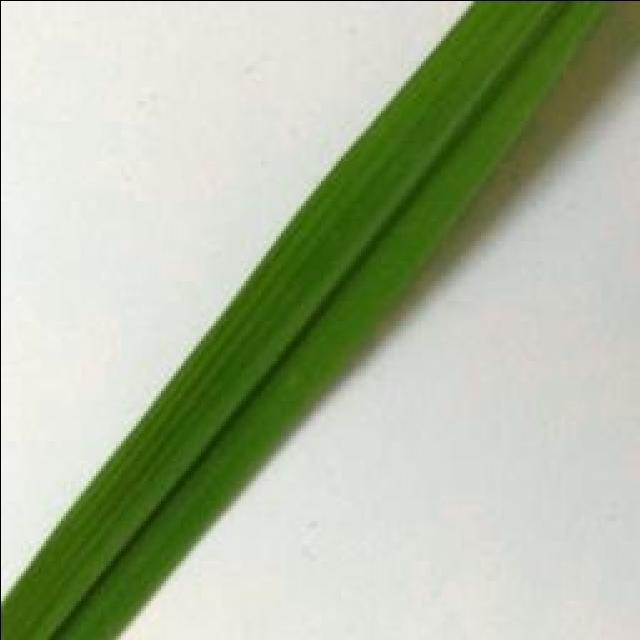Healthy: (0, 0, 610, 640)
